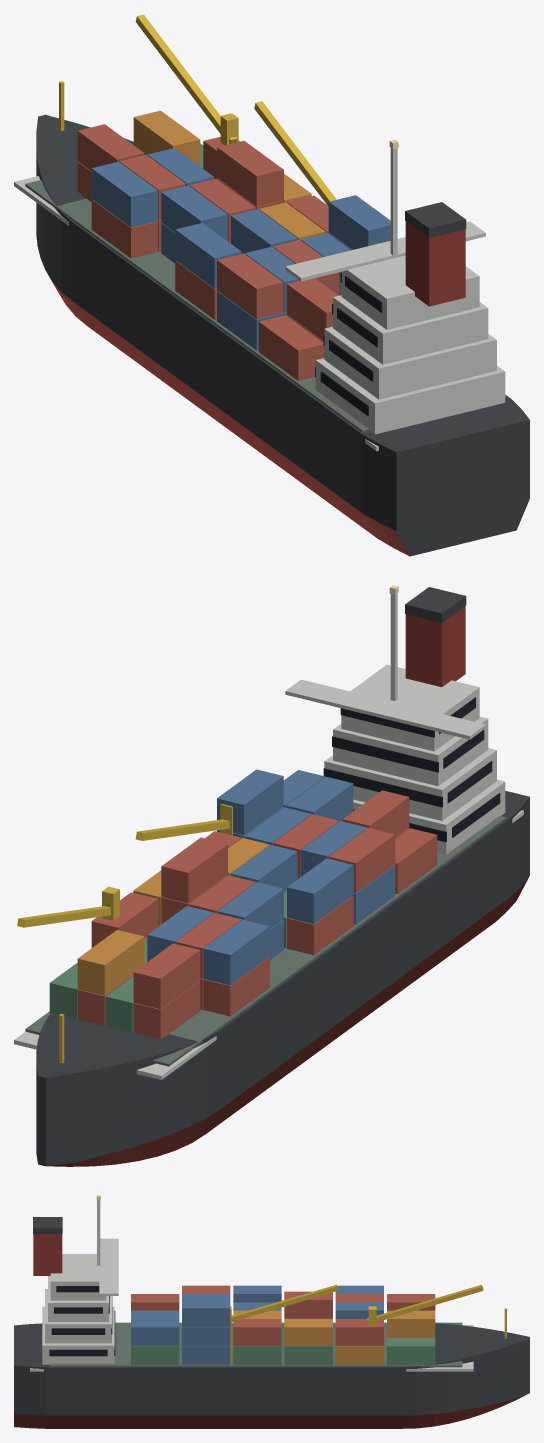
Rendered from CargoShip.fbx.
3 views of the same model, one above another, from view 1: azimuth 30°, elevation 25°; view 2: azimuth 150°, elevation 25°; view 3: azimuth 270°, elevation 25° (orthographic). The views are drawn at different scales.
Visible parts, largest first — view 1: CargoShip; view 2: CargoShip; view 3: CargoShip.
Boxes of the visible parts, <box> form: CargoShip: <box>14,14,529,556</box>; CargoShip: <box>14,585,529,1166</box>; CargoShip: <box>14,1195,529,1428</box>.
Bounding box in the file's own units: 16.2 × 29.45 × 64.
